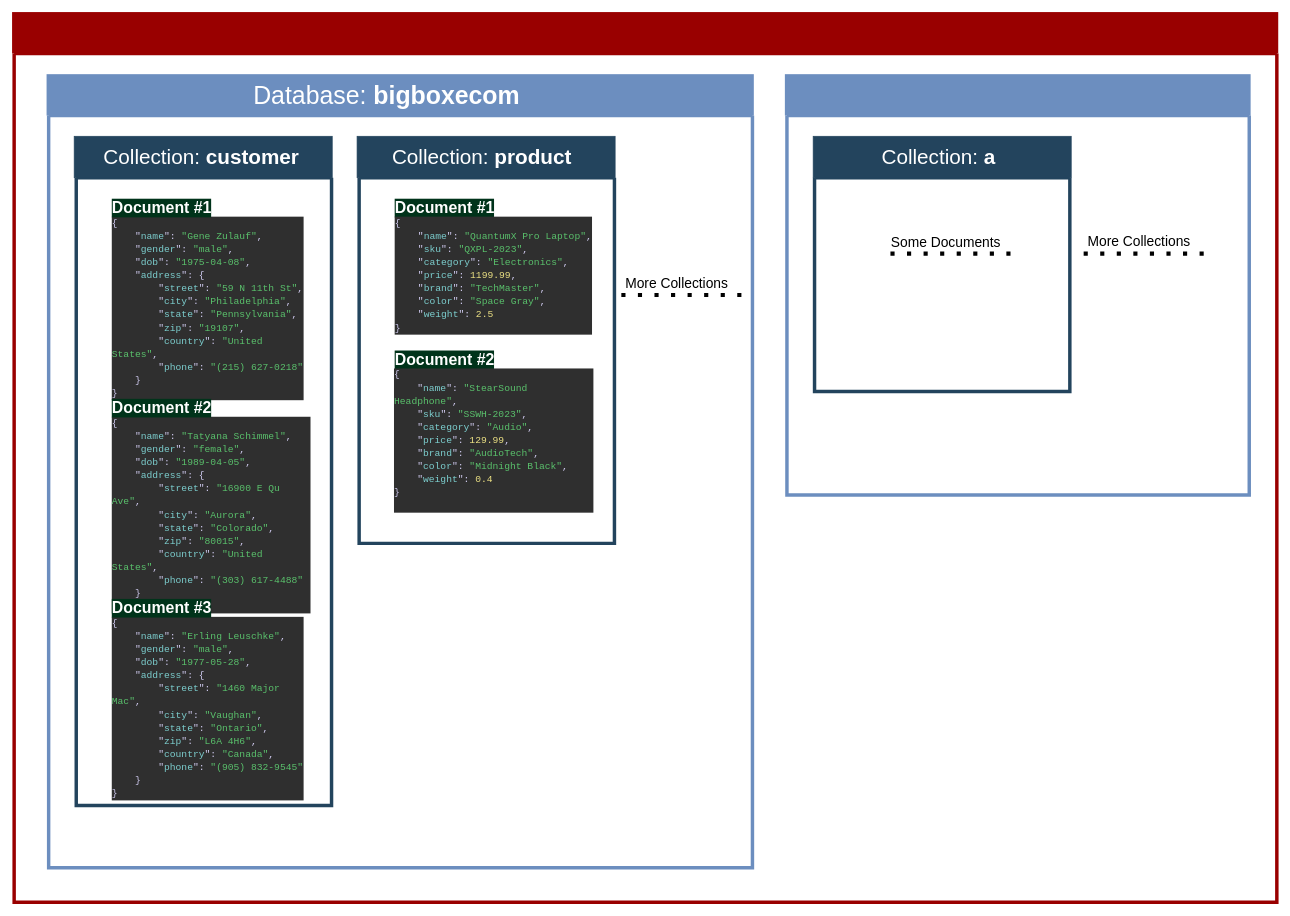
Some shapes in this 1290 by 916 pixel diagram are drawn without their labels. Here are the shapes that lost their labels. From the top down, the centre of each, then its label:
(x=645, y=32): Server: BigBoxServer
(x=1017, y=94): Database: mydb
